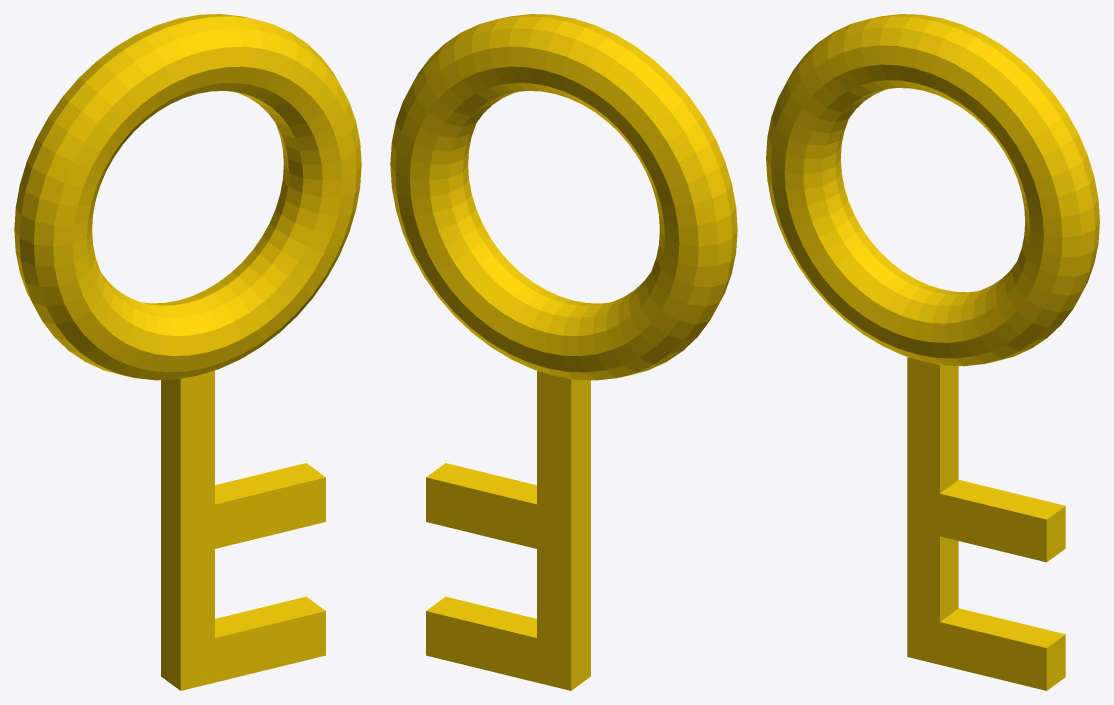
The model's file is Key.fbx.
3 views of the same model, side by side, from view 1: azimuth 30°, elevation 25°; view 2: azimuth 150°, elevation 25°; view 3: azimuth 330°, elevation 25° (orthographic). The views are drawn at different scales.
Parts seen in each view (by area): view 1: トーラス, 立方体, 立方体.002, 立方体.001; view 2: トーラス, 立方体, 立方体.002, 立方体.001; view 3: トーラス, 立方体, 立方体.002, 立方体.001.
Boxes of the visible parts, <box> form: トーラス: <box>14,14,361,380</box>; 立方体: <box>161,370,214,690</box>; 立方体.002: <box>215,463,325,548</box>; 立方体.001: <box>215,596,325,682</box>; トーラス: <box>390,14,737,380</box>; 立方体: <box>537,370,590,690</box>; 立方体.002: <box>426,463,536,548</box>; 立方体.001: <box>426,596,536,682</box>; トーラス: <box>766,14,1099,366</box>; 立方体: <box>907,357,958,664</box>; 立方体.002: <box>940,480,1065,562</box>; 立方体.001: <box>940,608,1065,690</box>.
Bounding box in the file's own units: 79.15 × 148 × 15.88.
Materials: 2 (2 with a texture image).
